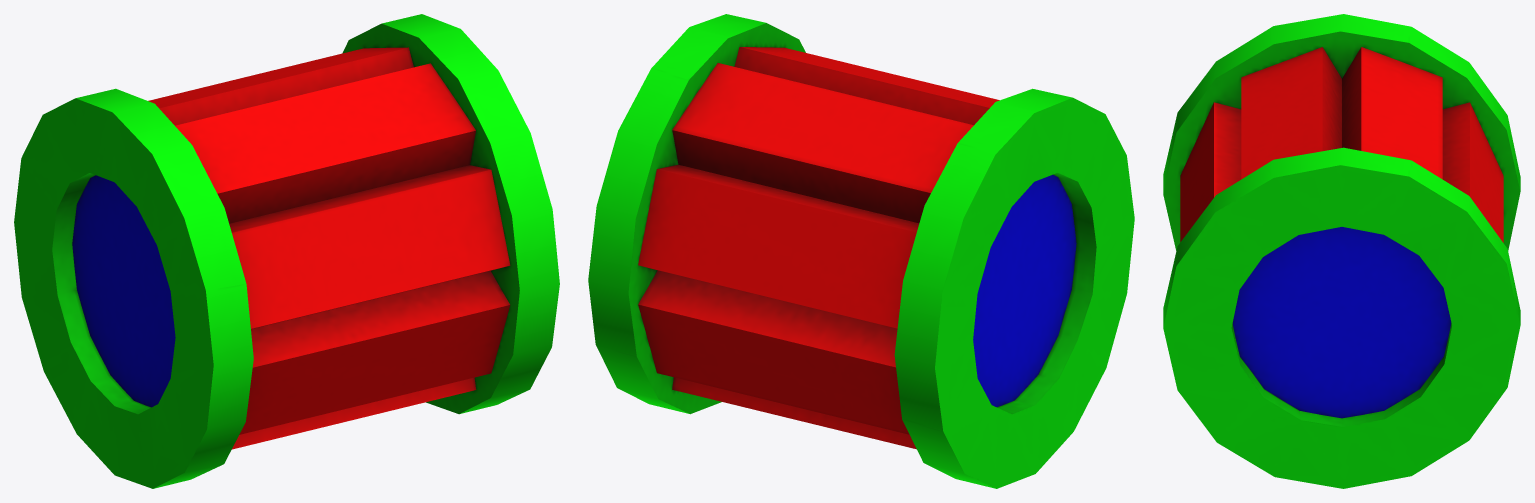
File: barrel.glb
The picture shows the model from 3 angles, left to right: view 1: azimuth 30°, elevation 25°; view 2: azimuth 150°, elevation 25°; view 3: azimuth 270°, elevation 25°; orthographic projection. The views are drawn at different scales.
Visible parts, largest first — view 1: Cylinder; view 2: Cylinder; view 3: Cylinder.
Boxes of the visible parts, left/top/right/bottom form: Cylinder: left=14, top=14, right=559, bottom=488; Cylinder: left=588, top=14, right=1134, bottom=488; Cylinder: left=1163, top=14, right=1520, bottom=488.
Bounding box in the file's own units: 1.99 × 1.98 × 1.98.
1 material, 1 textured.
